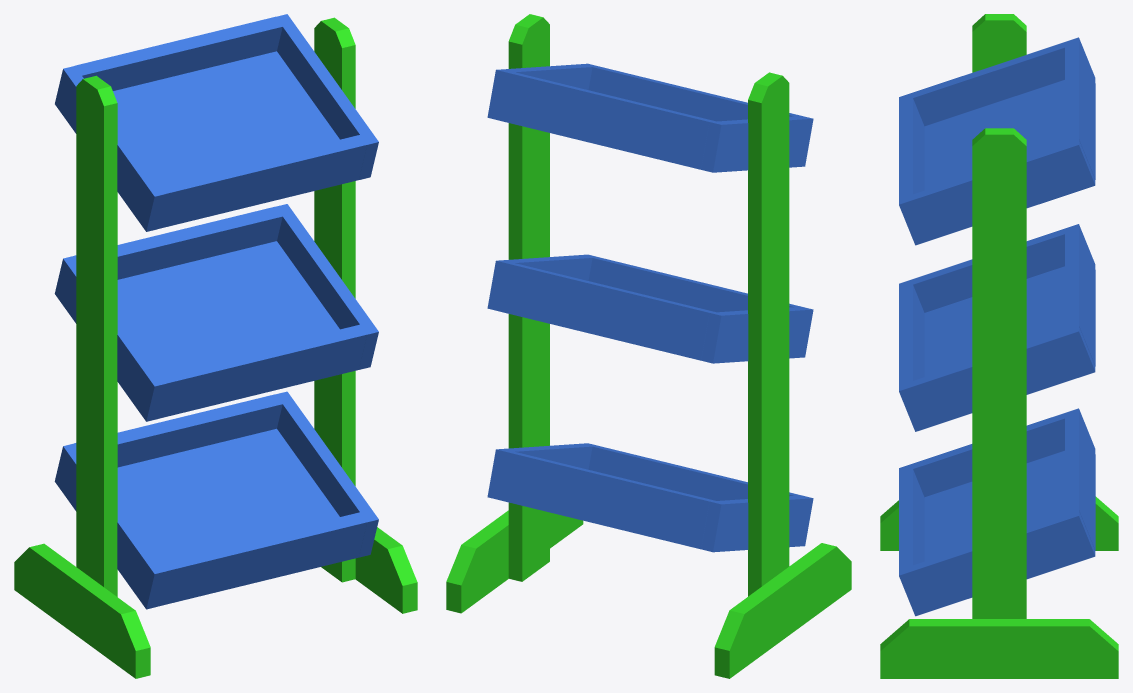
Rendered from SM_Shelf2.fbx.
3 renders of one model, left to right at view 1: azimuth 30°, elevation 25°; view 2: azimuth 150°, elevation 25°; view 3: azimuth 270°, elevation 25°, orthographic. The views are drawn at different scales.
Visible parts, largest first — view 1: SM_Fruit_Vegetables_Stand; view 2: SM_Fruit_Vegetables_Stand; view 3: SM_Fruit_Vegetables_Stand.
Boxes of the visible parts, <box> form: SM_Fruit_Vegetables_Stand: <box>14,14,417,678</box>; SM_Fruit_Vegetables_Stand: <box>446,14,851,678</box>; SM_Fruit_Vegetables_Stand: <box>880,14,1118,678</box>.
Size of the model in its own units: 229 by 424 by 171.
